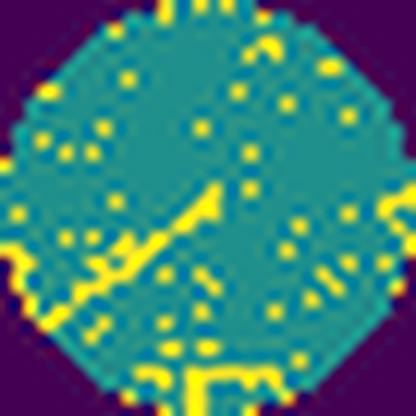Scratch: (37, 178, 227, 336)
